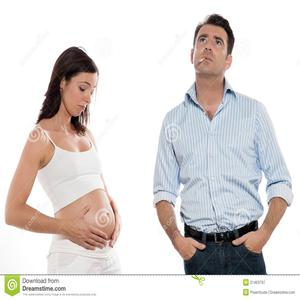cigarette: (196, 58, 206, 67)
